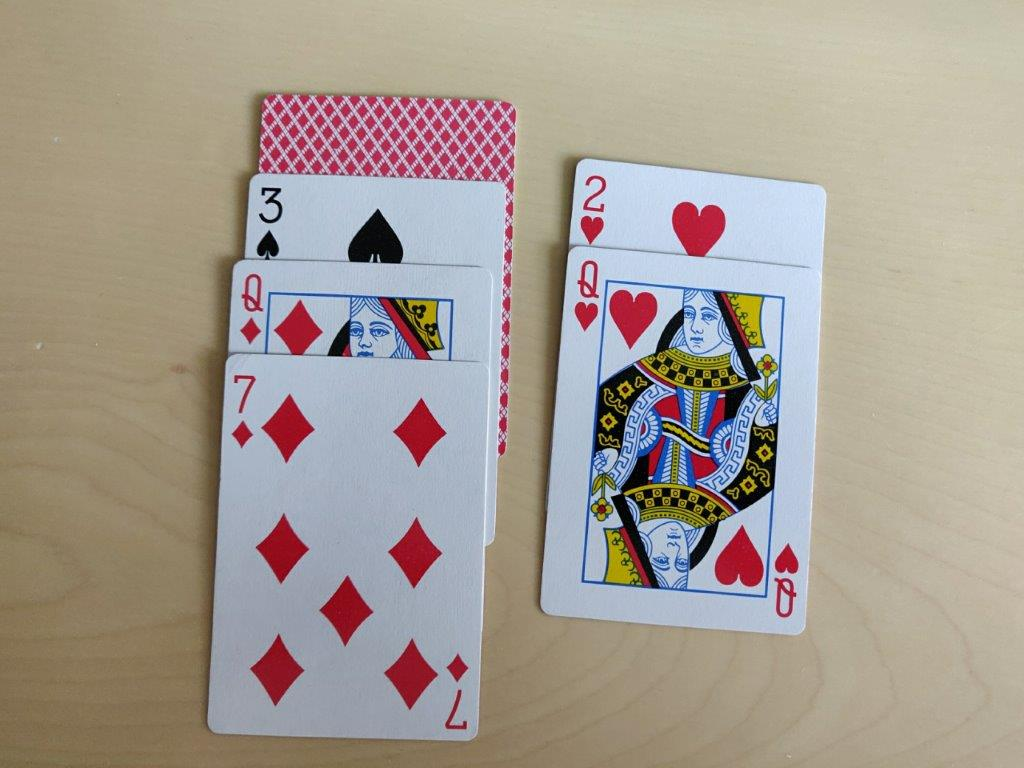2H: (576, 168, 612, 248)
3S: (254, 180, 285, 265)
7D: (227, 366, 258, 460)
BACK: (258, 91, 517, 183)
QD: (235, 272, 267, 349)
QH: (567, 255, 605, 334)
